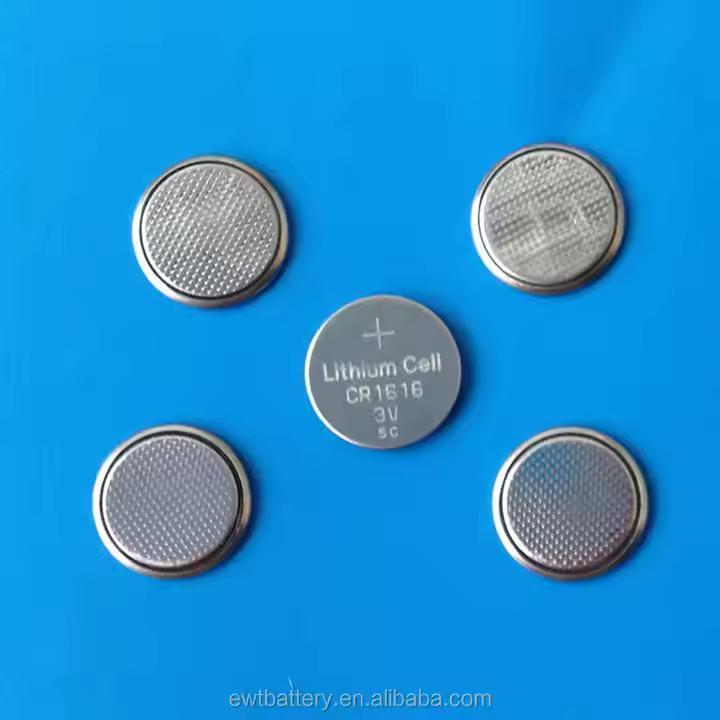COIN: (86, 422, 258, 586), (302, 291, 468, 457), (127, 150, 294, 314), (465, 138, 630, 302), (489, 423, 655, 586)
